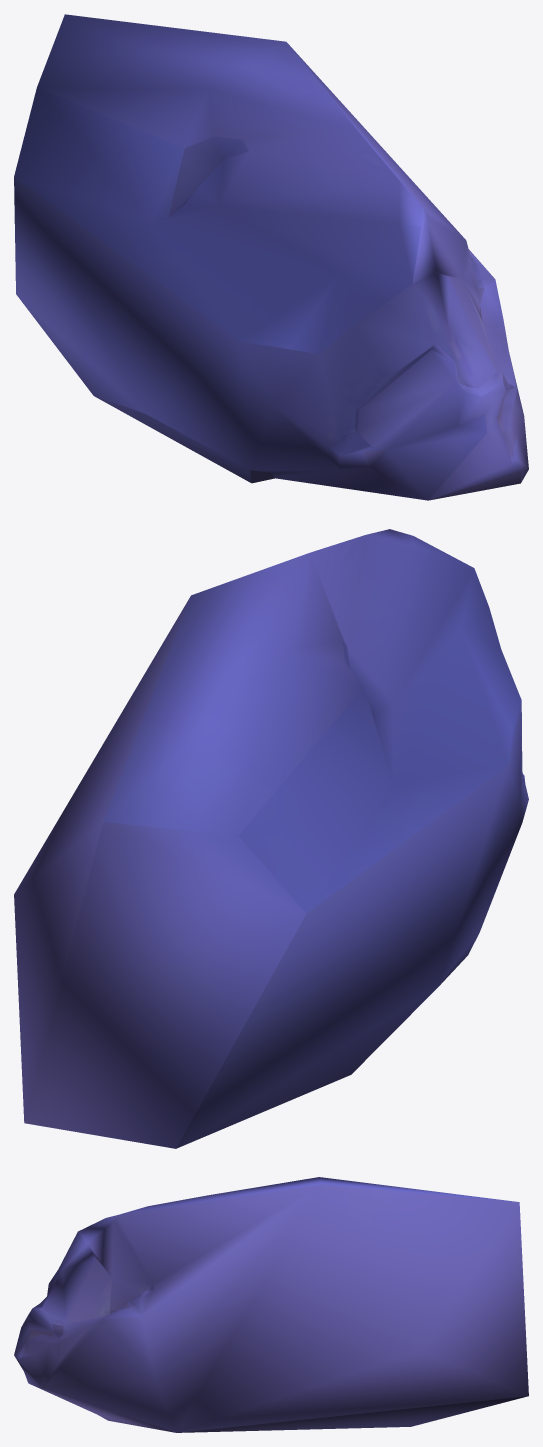
The model's file is model.progressive.glb.
The picture shows the model from 3 angles, top to bottom: view 1: azimuth 30°, elevation 25°; view 2: azimuth 150°, elevation 25°; view 3: azimuth 270°, elevation 25°; orthographic projection. The views are drawn at different scales.
Parts seen in each view (by area): view 1: material; view 2: material; view 3: material.
Part boxes in pixels (x1,y1,x2,y2): material: (14, 14, 528, 500); material: (14, 529, 528, 1148); material: (14, 1177, 528, 1432).
Bounding box in the file's own units: 0.7791 × 0.9139 × 1.83.
Materials: 1 (1 with a texture image).
